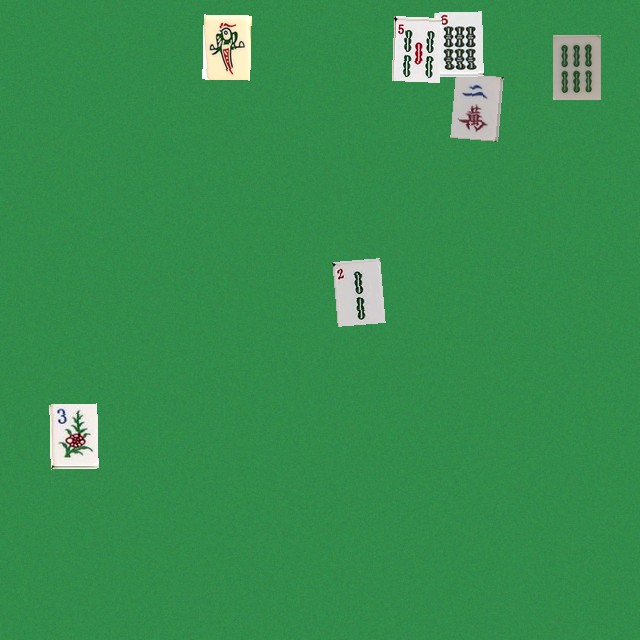tile: (450, 73, 498, 138), (434, 11, 482, 76), (49, 403, 97, 468), (391, 15, 439, 80), (332, 258, 380, 323), (552, 34, 600, 99), (202, 14, 250, 79)
